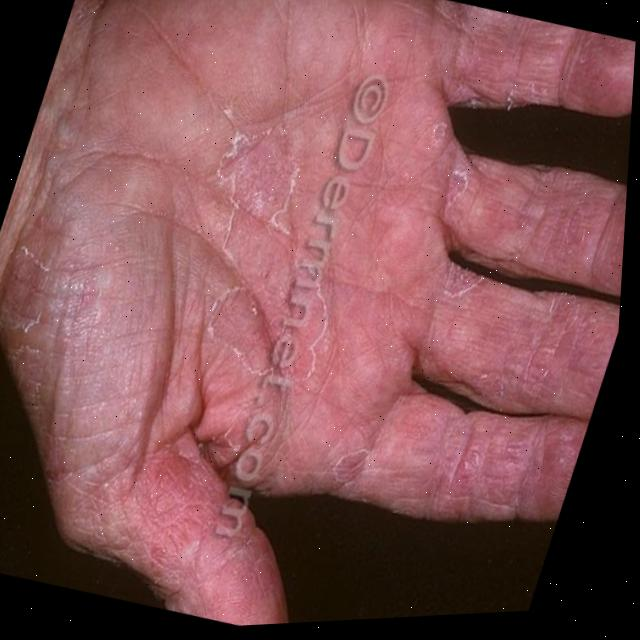Eczema: (350, 147, 629, 557), (129, 109, 370, 439), (118, 467, 252, 562), (0, 261, 54, 334)
